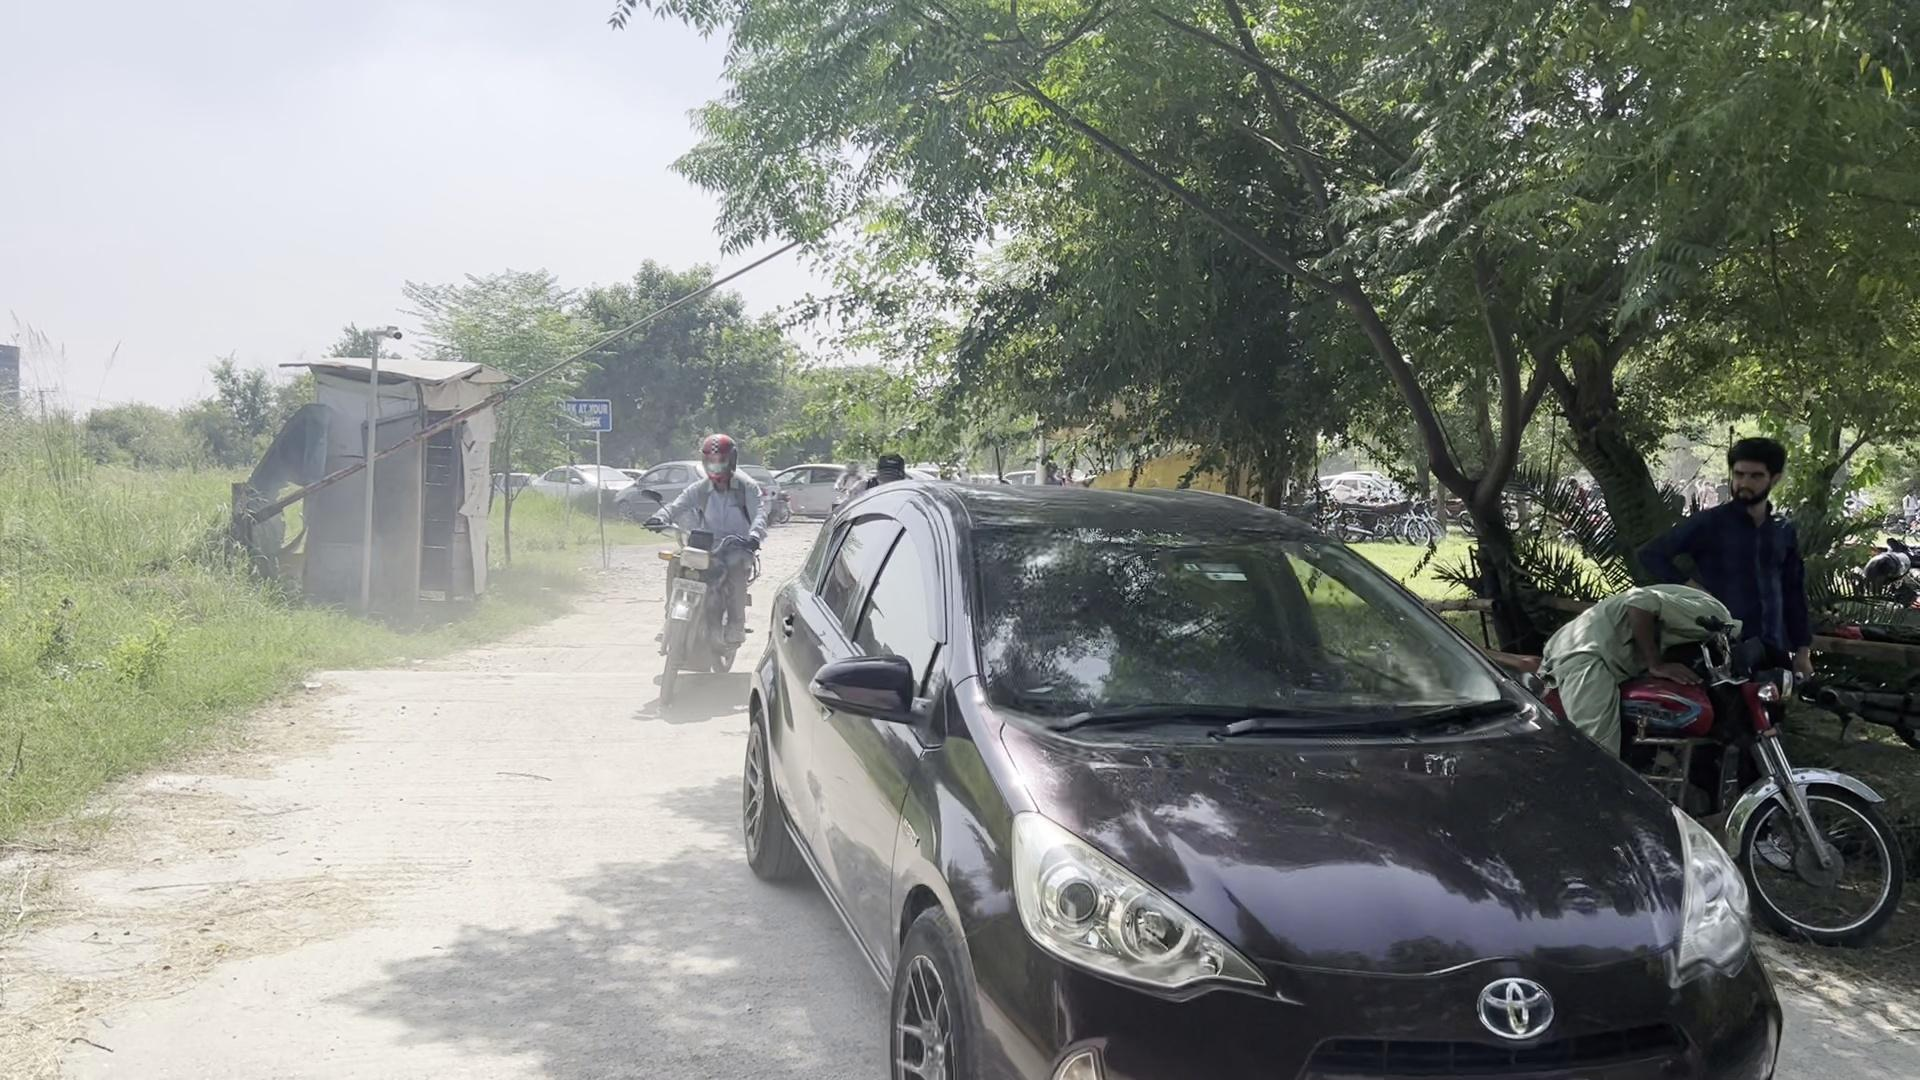windshield: (951, 484, 1557, 753)
